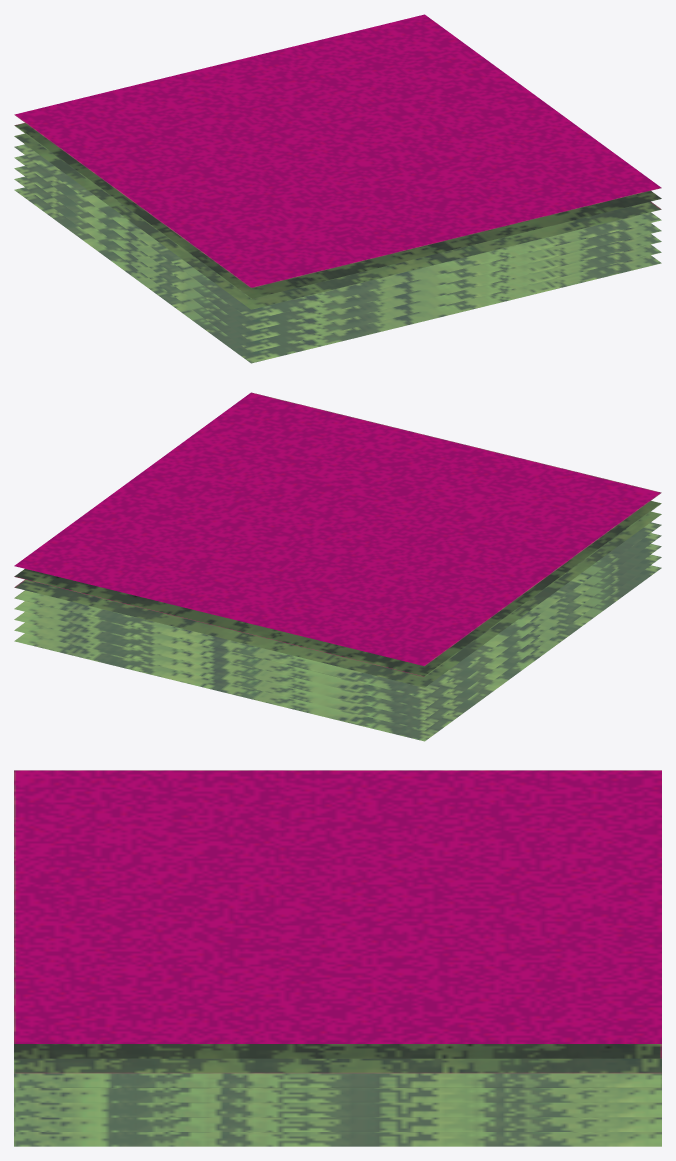
File: spaanseruiter.fbx
The picture shows the model from 3 angles, top to bottom: view 1: azimuth 30°, elevation 25°; view 2: azimuth 150°, elevation 25°; view 3: azimuth 270°, elevation 25°; orthographic projection. The views are drawn at different scales.
Parts seen in each view (by area): view 1: spaanseruiter; view 2: spaanseruiter; view 3: spaanseruiter.
Boxes of the visible parts, bbox=[...] form: spaanseruiter: bbox=[14, 14, 661, 363]; spaanseruiter: bbox=[14, 392, 661, 741]; spaanseruiter: bbox=[14, 770, 661, 1146].
Bounding box in the file's own units: 360 × 63 × 360.
1 material, 1 textured.
